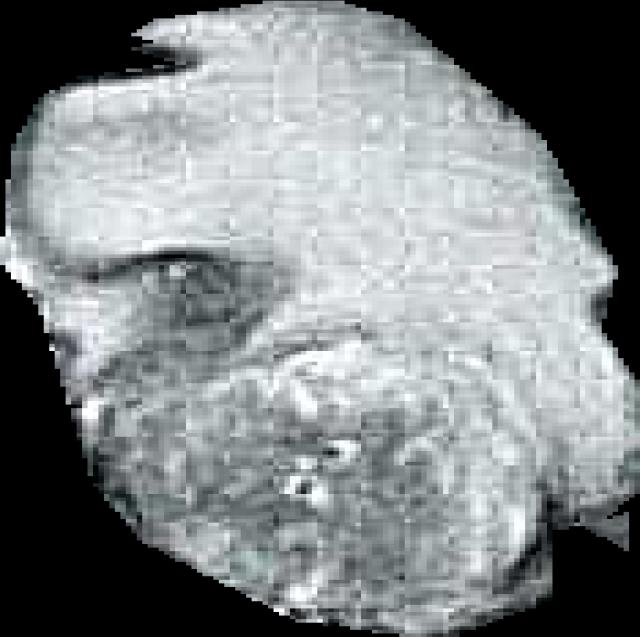tumor_less_chance: (0, 1, 640, 637)
